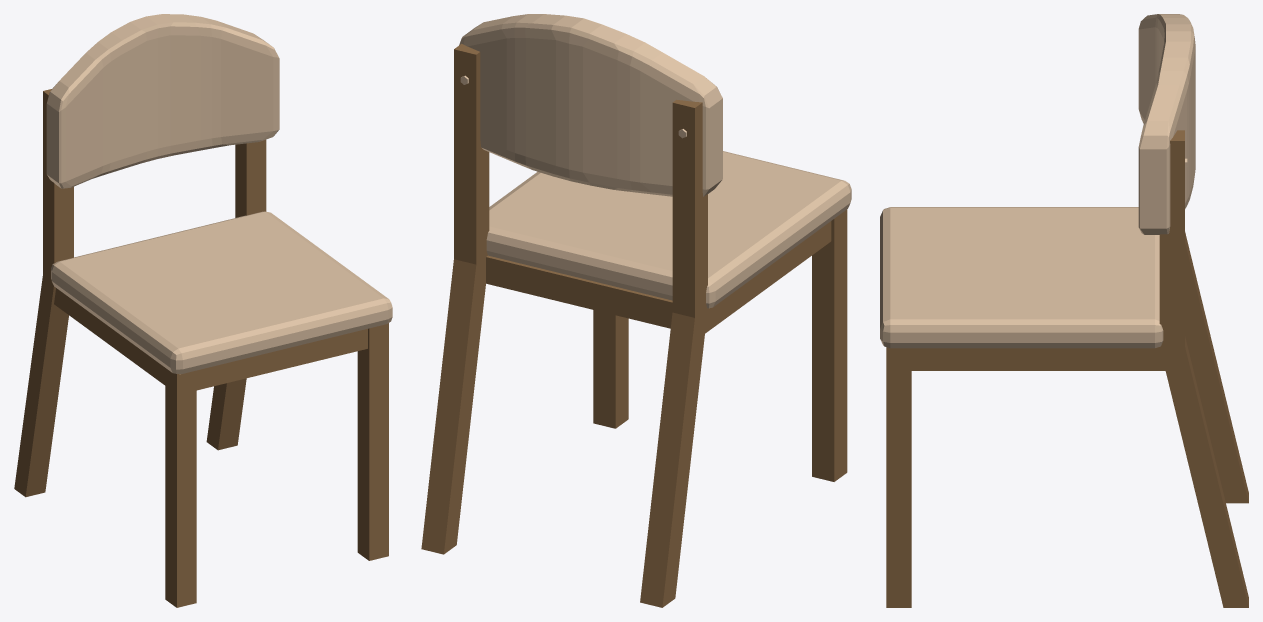
The model's file is Chair_07_C3.fbx.
The picture shows the model from 3 angles, left to right: view 1: azimuth 30°, elevation 25°; view 2: azimuth 150°, elevation 25°; view 3: azimuth 270°, elevation 25°; orthographic projection. The views are drawn at different scales.
Parts seen in each view (by area): view 1: Chair_07_C3; view 2: Chair_07_C3; view 3: Chair_07_C3.
Boxes of the visible parts, left/top/right/bottom form: Chair_07_C3: left=14, top=14, right=392, bottom=607; Chair_07_C3: left=421, top=14, right=851, bottom=607; Chair_07_C3: left=880, top=14, right=1248, bottom=607.
Size of the model in its own units: 45 by 90.46 by 58.24.
